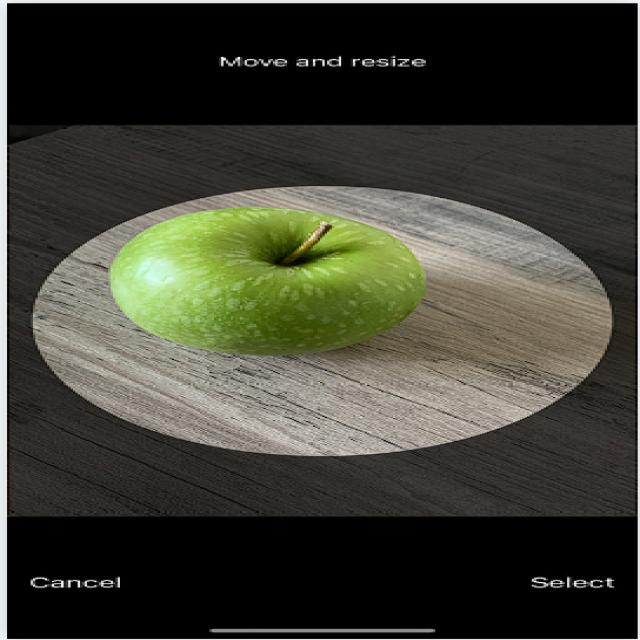image: (86, 202, 470, 370)
text: (504, 569, 640, 598), (21, 572, 155, 599)
